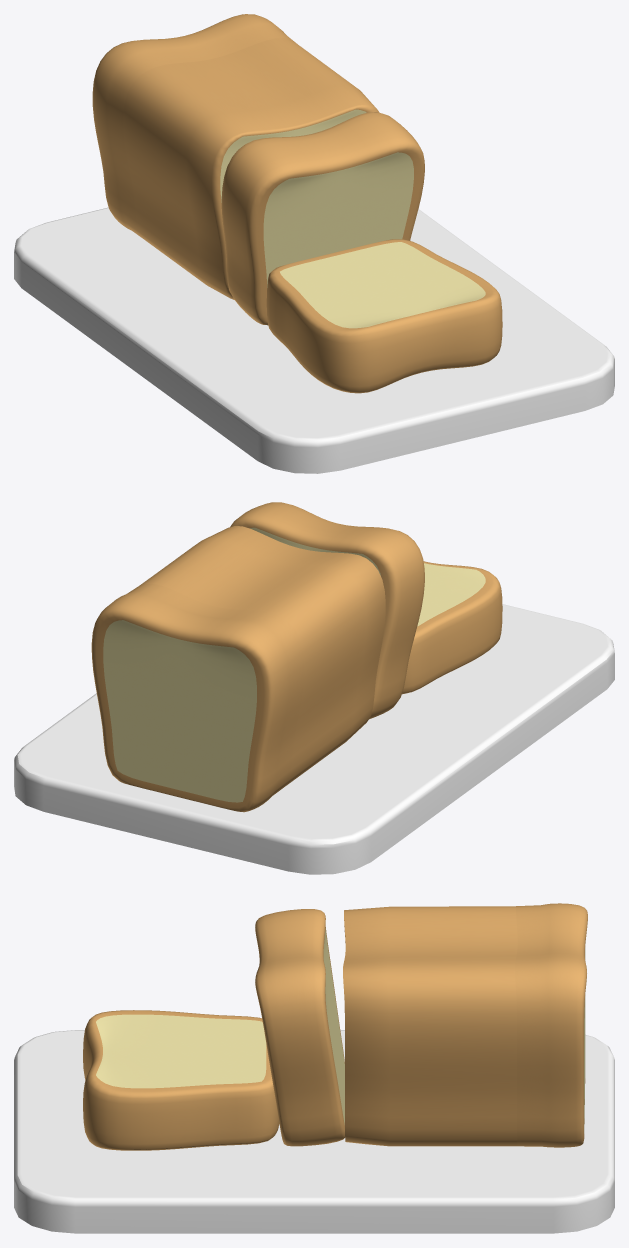
File: bread station.fbx
The picture shows the model from 3 angles, top to bottom: view 1: azimuth 30°, elevation 25°; view 2: azimuth 150°, elevation 25°; view 3: azimuth 270°, elevation 25°; orthographic projection.
Visible parts, largest first — view 1: bread6; view 2: bread6; view 3: bread6.
Part boxes in pixels (x1,y1,x2,y2): bread6: (14, 14, 614, 473); bread6: (14, 502, 614, 874); bread6: (14, 903, 614, 1233).
Size of the model in its own units: 87.19 by 49.98 by 128.
3 materials, 2 textured.
